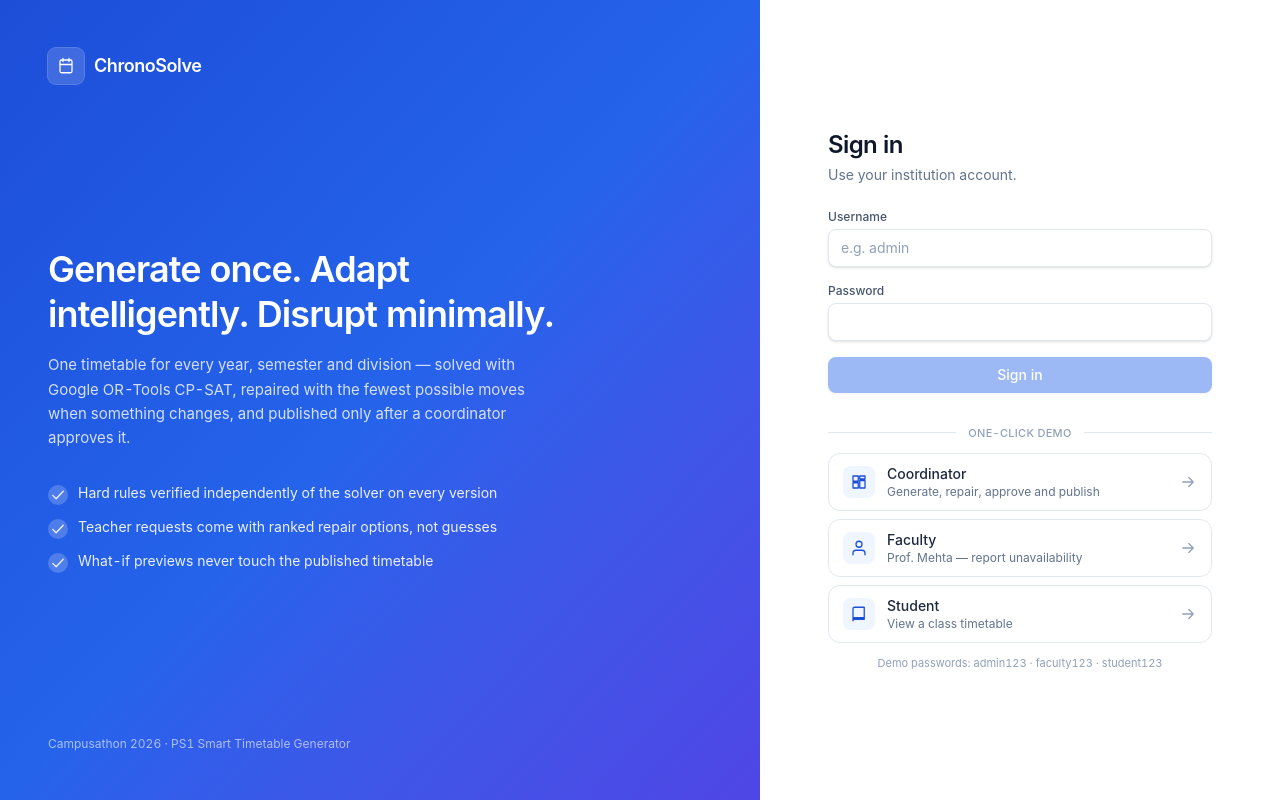
Test: signing in › reports a wrong password without signing in
Type "admin" into the field labelled "Username" at (1020, 248), box left=828, top=228, right=1212, bottom=266
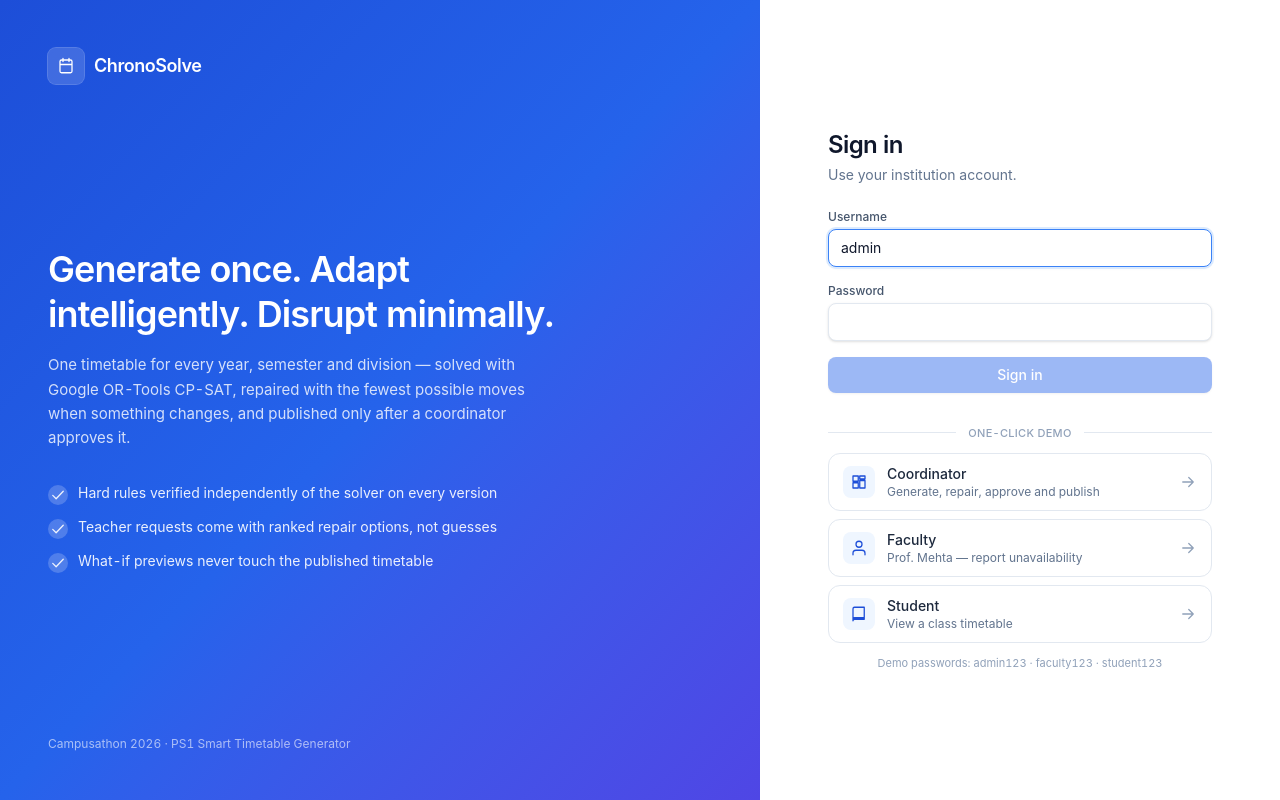
Type "nope" into the password field labelled "Password" at (1020, 322), box left=828, top=302, right=1212, bottom=340
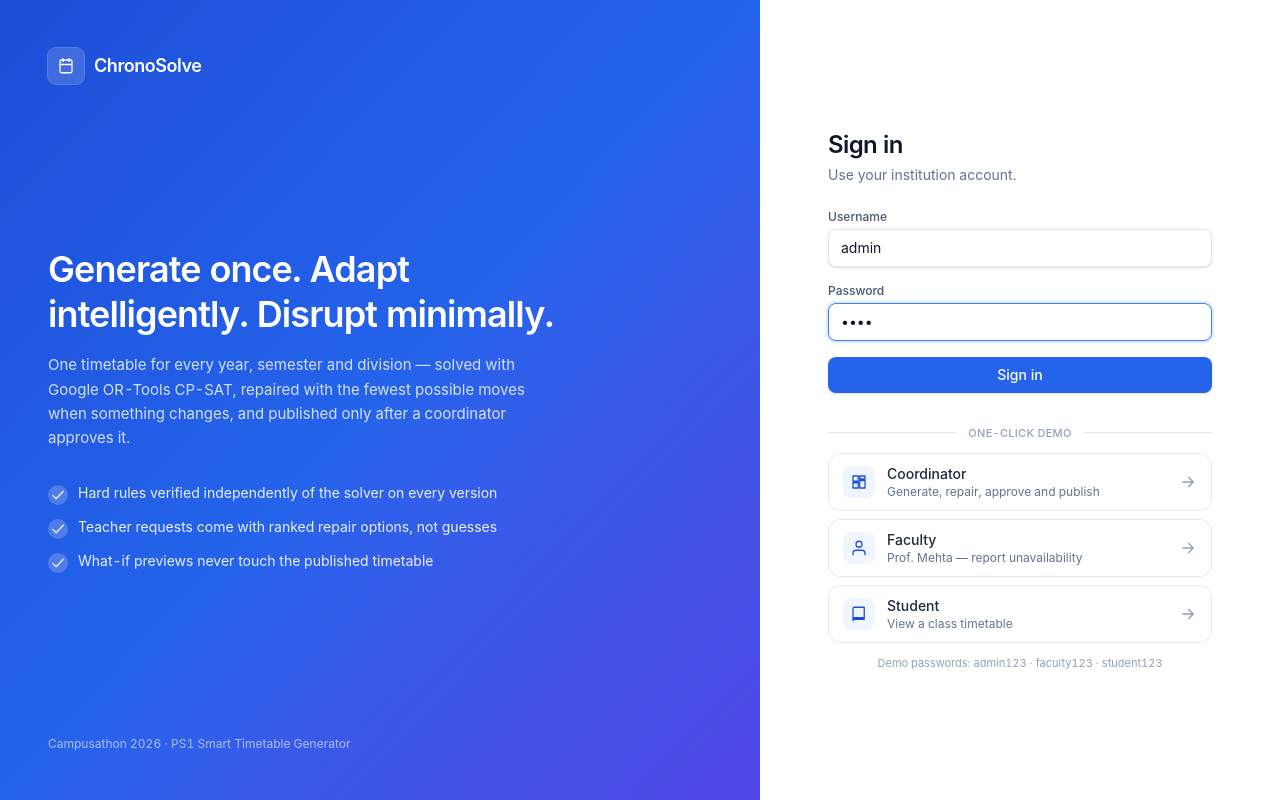
Click the button "Sign in" at (1020, 374), box left=828, top=356, right=1212, bottom=392
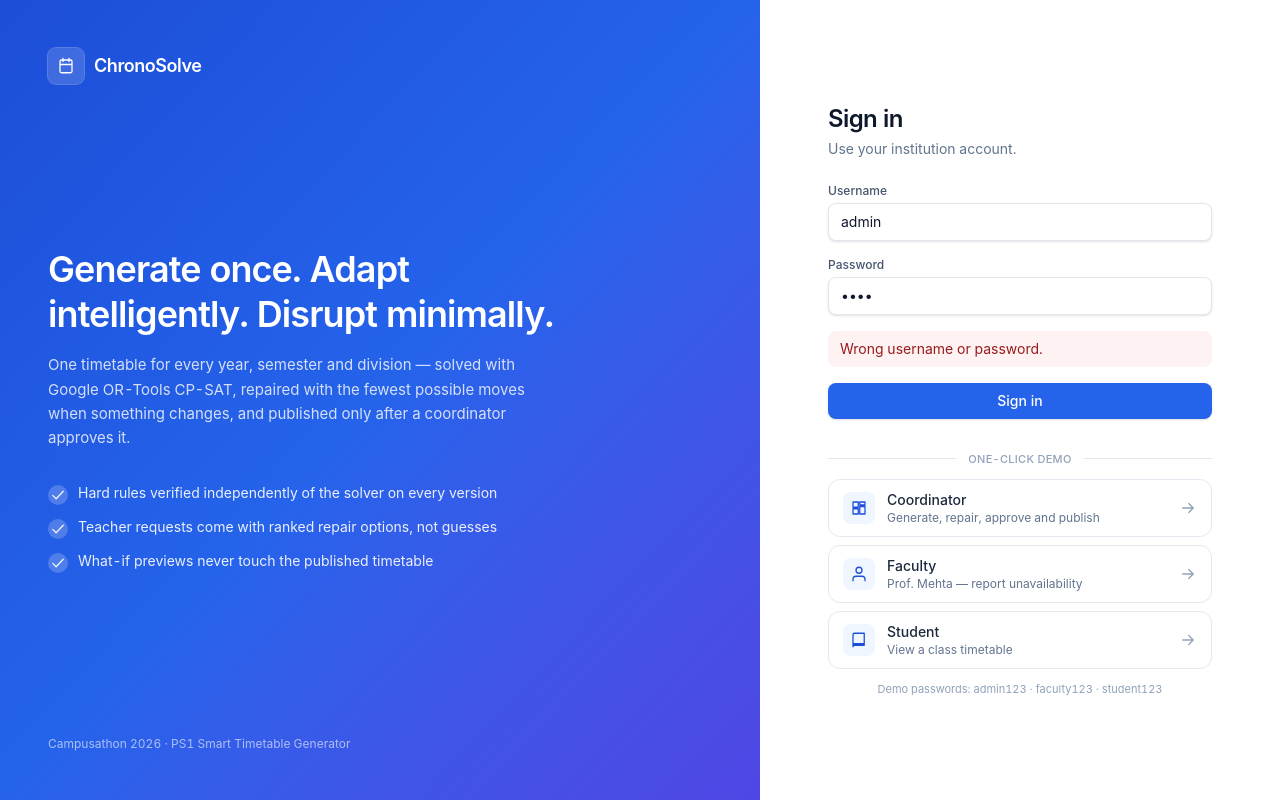
Check: the message reads "Wrong username or password.", box left=840, top=340, right=1043, bottom=356
